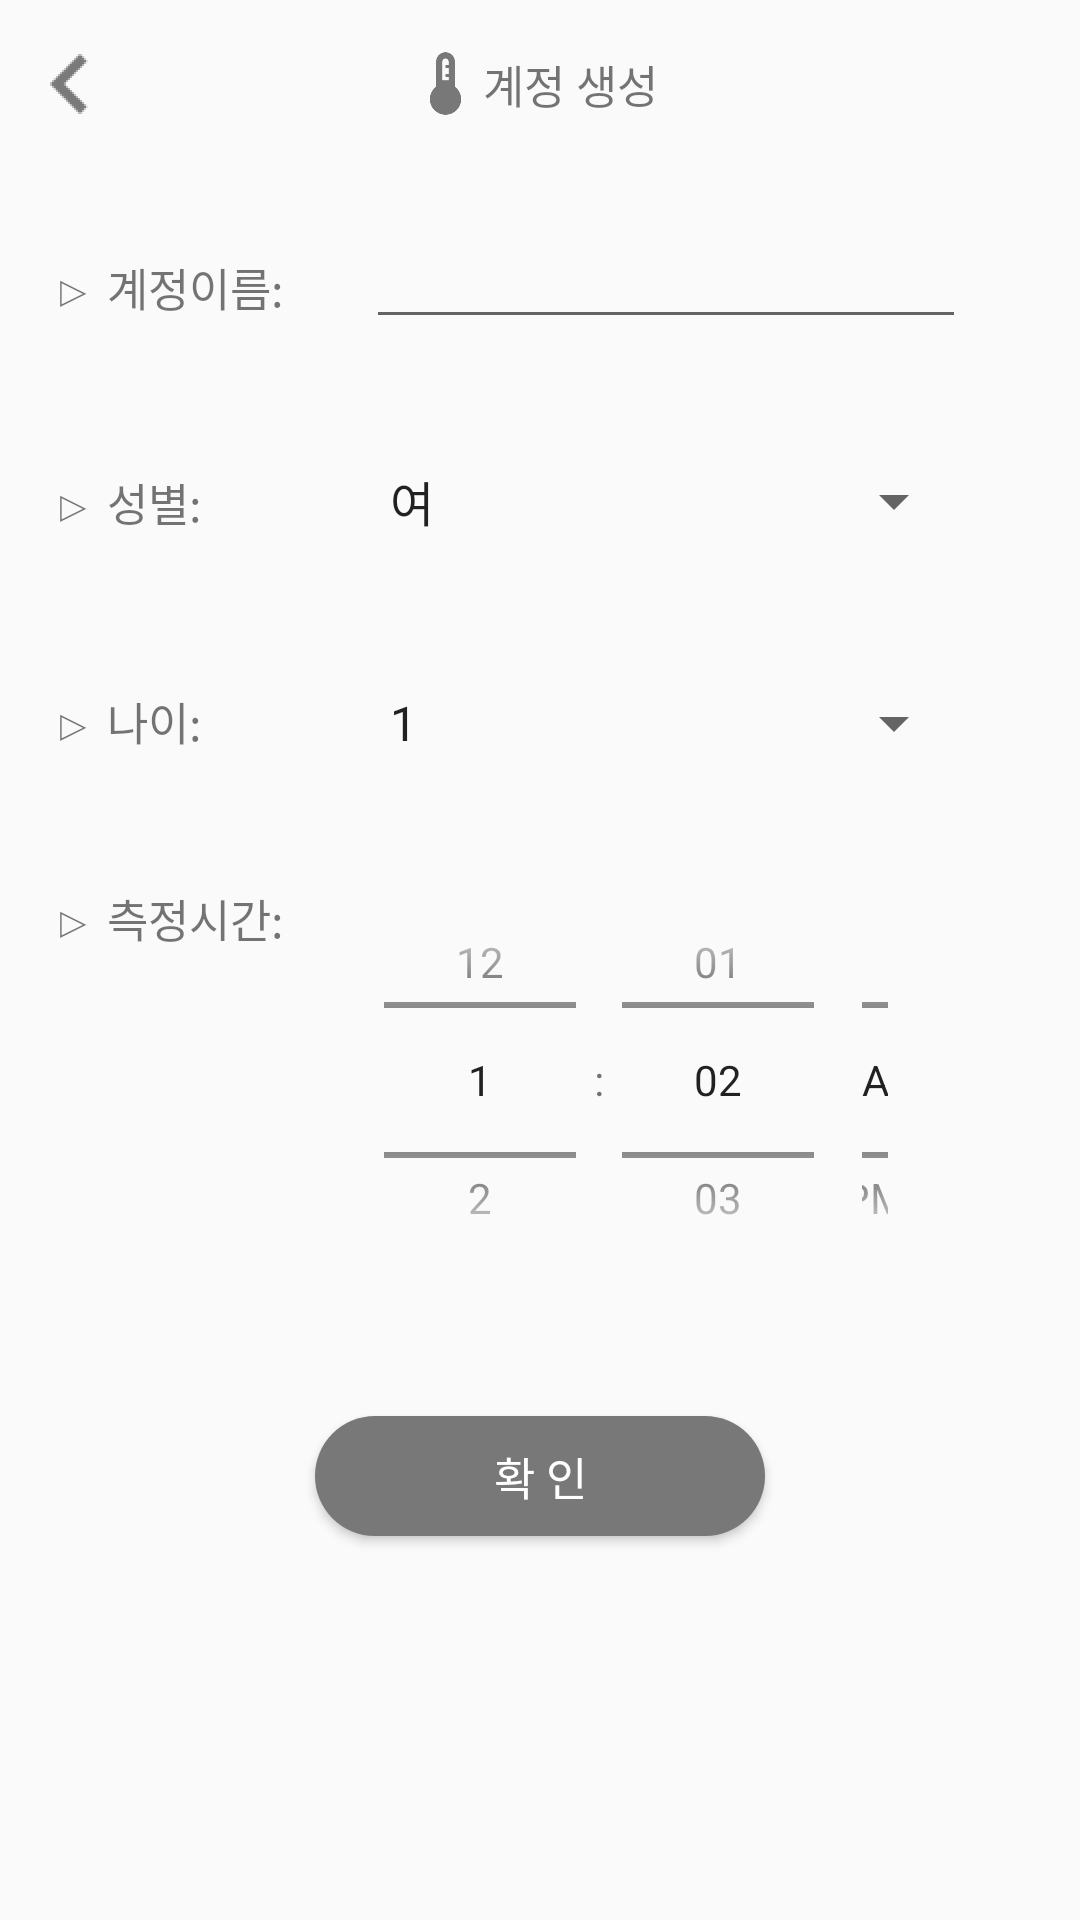

Named icons in this screenshot (1080px×1920px) and their centers, [x,y]:
left: [69,84]
therma: [445,83]
